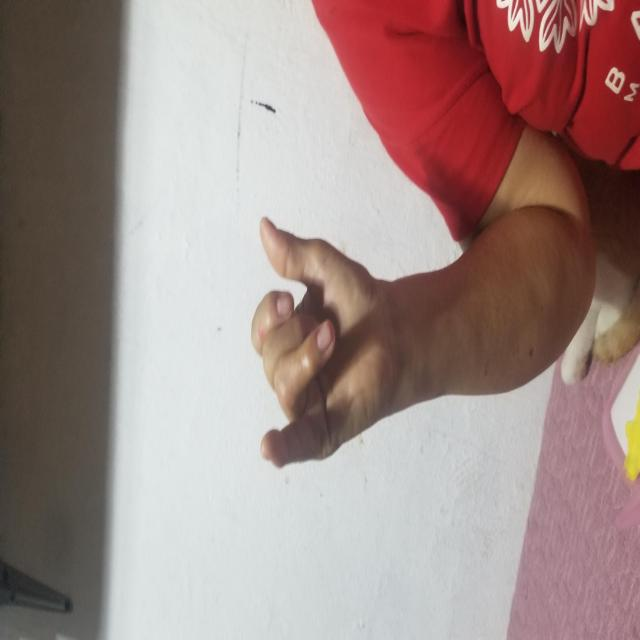Y: (215, 191, 445, 528)
